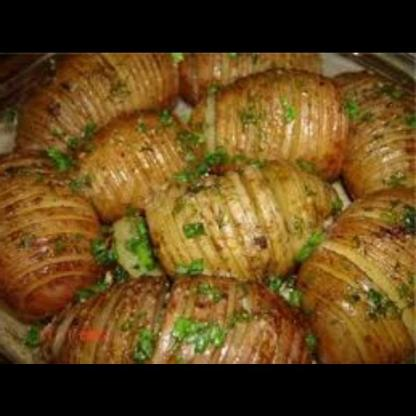potato: (98, 153, 336, 277), (25, 272, 310, 363), (293, 180, 414, 363), (9, 51, 176, 160), (178, 70, 353, 163), (0, 141, 96, 302), (327, 51, 416, 204), (83, 104, 193, 196), (166, 52, 326, 109)
